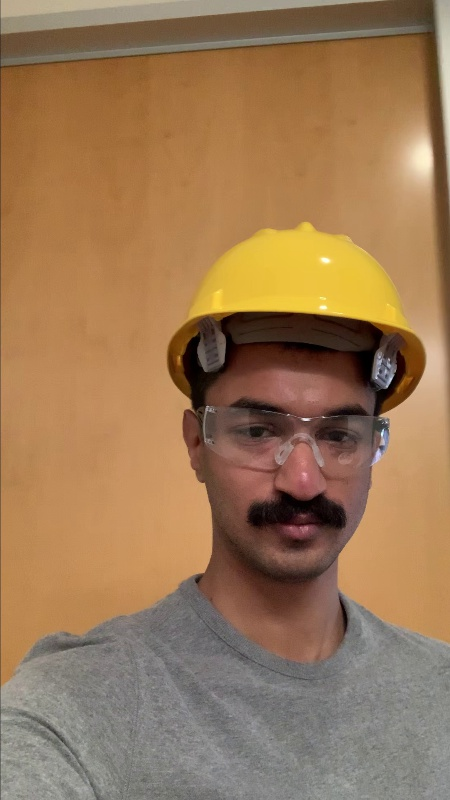glasses: (197, 399, 385, 469)
helmet: (157, 217, 434, 368)
